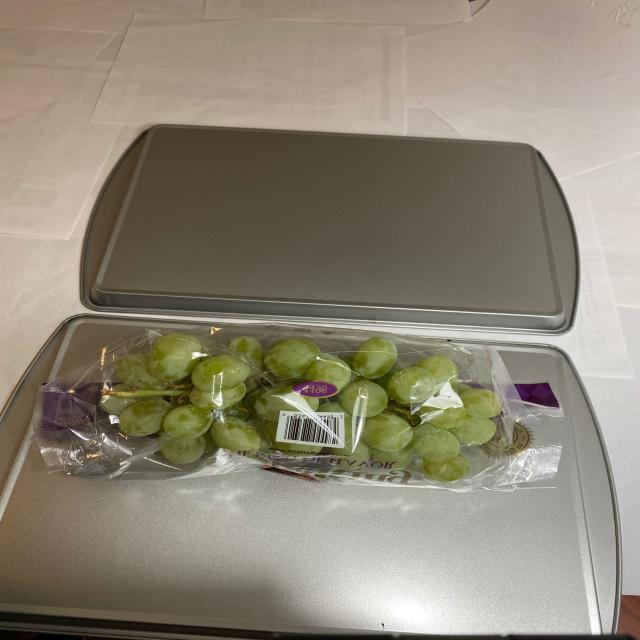grapes: (82, 331, 547, 478)
